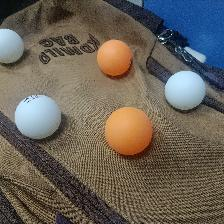WhiteBall: (14, 94, 60, 139), (164, 70, 206, 110), (0, 28, 24, 62)
YellowBall: (103, 107, 151, 154), (96, 39, 131, 75)
